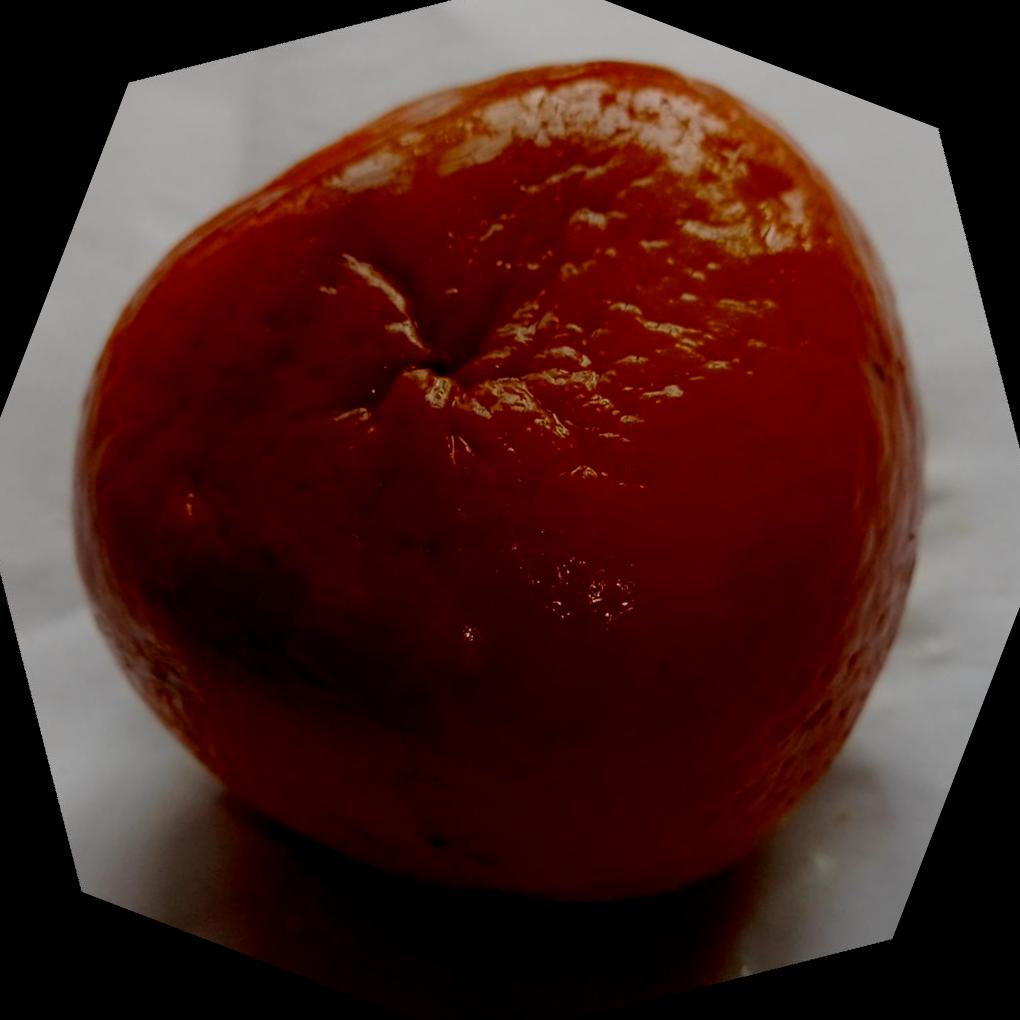FreshOrange: (68, 59, 925, 913)
